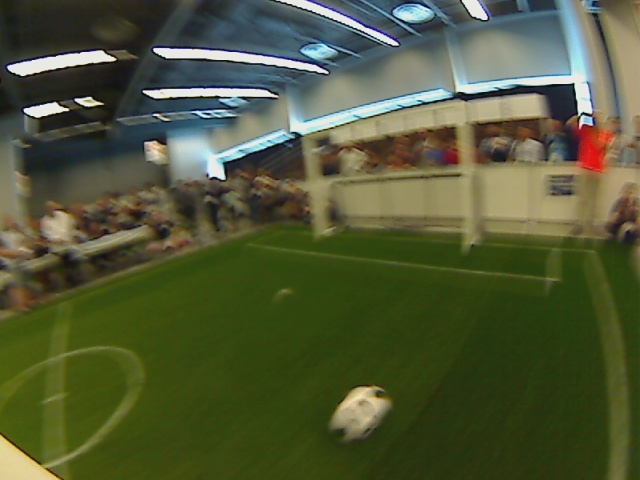ball: (271, 286, 296, 303)
